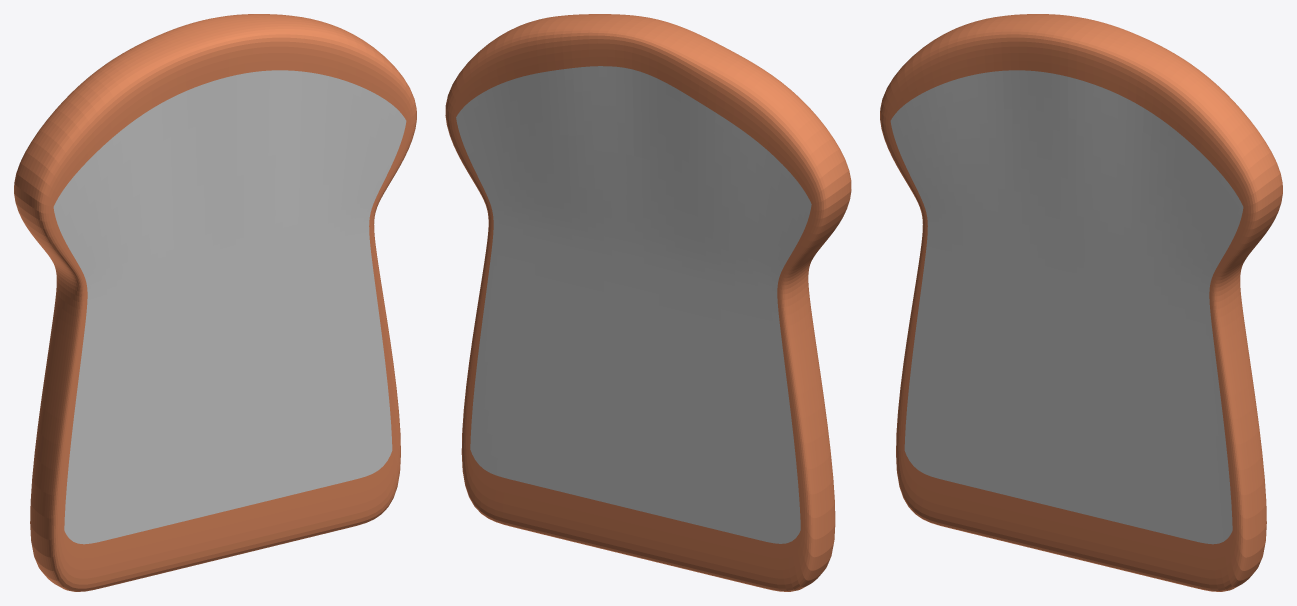
Rendered from toastblend2.fbx.
3 views of the same model, side by side, from view 1: azimuth 30°, elevation 25°; view 2: azimuth 150°, elevation 25°; view 3: azimuth 330°, elevation 25° (orthographic).
Parts seen in each view (by area): view 1: Cube; view 2: Cube; view 3: Cube.
Boxes of the visible parts, x1,y1,x2,y2 form: Cube: [14, 14, 416, 591]; Cube: [445, 14, 851, 591]; Cube: [880, 14, 1282, 591].
Size of the model in its own units: 326 by 425 by 46.89.
